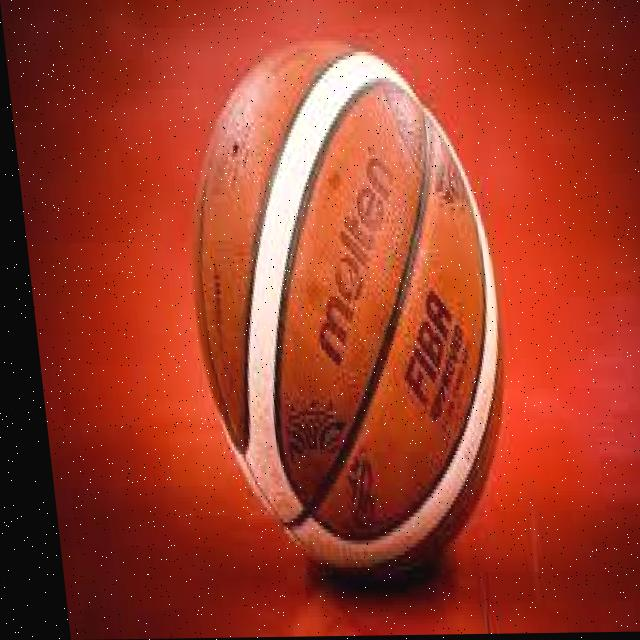Basketball: (159, 34, 528, 595)
